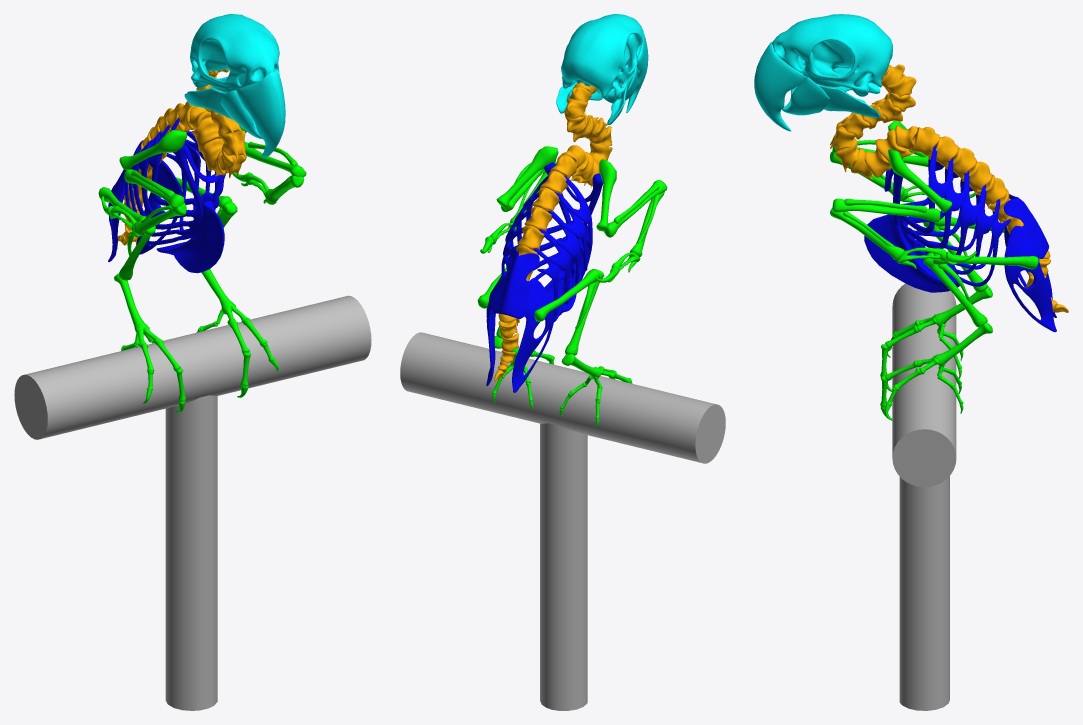
File: papagaio.glb
3 views of the same model, side by side, from view 1: azimuth 30°, elevation 25°; view 2: azimuth 150°, elevation 25°; view 3: azimuth 270°, elevation 25° (orthographic). The views are drawn at different scales.
Visible parts, largest first — view 1: Papagaio_Puleiro_geo, Papagaio_Ossos_Cabessa_geo, Papagaio_Ossos_Corpo_geo, Papagaio_Ossos_Pernas_geo, Papagaio_Ossos_Asas_geo, Papagaio_Ossos_Espinha_geo; view 2: Papagaio_Puleiro_geo, Papagaio_Ossos_Corpo_geo, Papagaio_Ossos_Cabessa_geo, Papagaio_Ossos_Espinha_geo, Papagaio_Ossos_Asas_geo, Papagaio_Ossos_Pernas_geo; view 3: Papagaio_Puleiro_geo, Papagaio_Ossos_Corpo_geo, Papagaio_Ossos_Cabessa_geo, Papagaio_Ossos_Espinha_geo, Papagaio_Ossos_Pernas_geo, Papagaio_Ossos_Asas_geo.
Boxes of the visible parts, x1,y1,x2,y2 form: Papagaio_Puleiro_geo: (14,295,371,710); Papagaio_Ossos_Cabessa_geo: (184,14,285,157); Papagaio_Ossos_Corpo_geo: (108,117,225,273); Papagaio_Ossos_Pernas_geo: (98,177,278,412); Papagaio_Ossos_Asas_geo: (101,125,306,237); Papagaio_Ossos_Espinha_geo: (117,69,246,245); Papagaio_Puleiro_geo: (400,332,725,710); Papagaio_Ossos_Corpo_geo: (486,162,602,392); Papagaio_Ossos_Cabessa_geo: (556,14,648,125); Papagaio_Ossos_Espinha_geo: (494,82,612,381); Papagaio_Ossos_Asas_geo: (480,146,667,282); Papagaio_Ossos_Pernas_geo: (477,267,632,428); Papagaio_Puleiro_geo: (892,283,956,710); Papagaio_Ossos_Corpo_geo: (864,145,1056,332); Papagaio_Ossos_Cabessa_geo: (754,14,892,131); Papagaio_Ossos_Espinha_geo: (830,64,1068,312); Papagaio_Ossos_Pernas_geo: (880,216,1038,420); Papagaio_Ossos_Asas_geo: (830,121,976,268).
Bounding box in the file's own units: 0.9214 × 1.93 × 0.8082.
